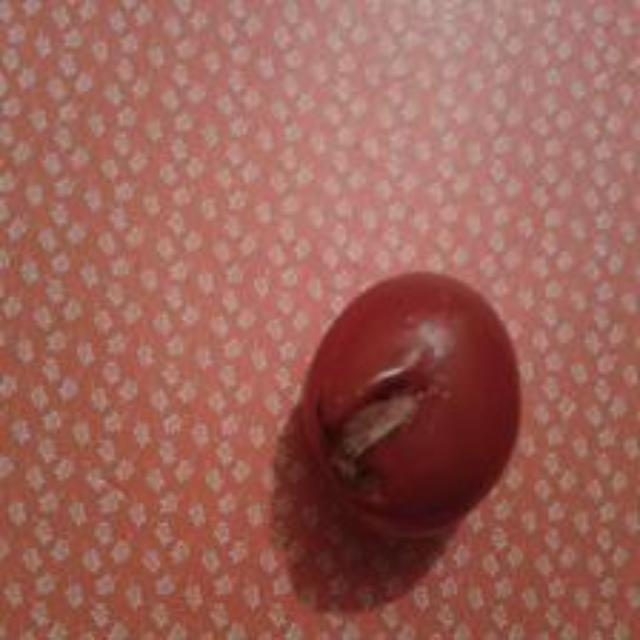defect: (299, 266, 525, 541)
